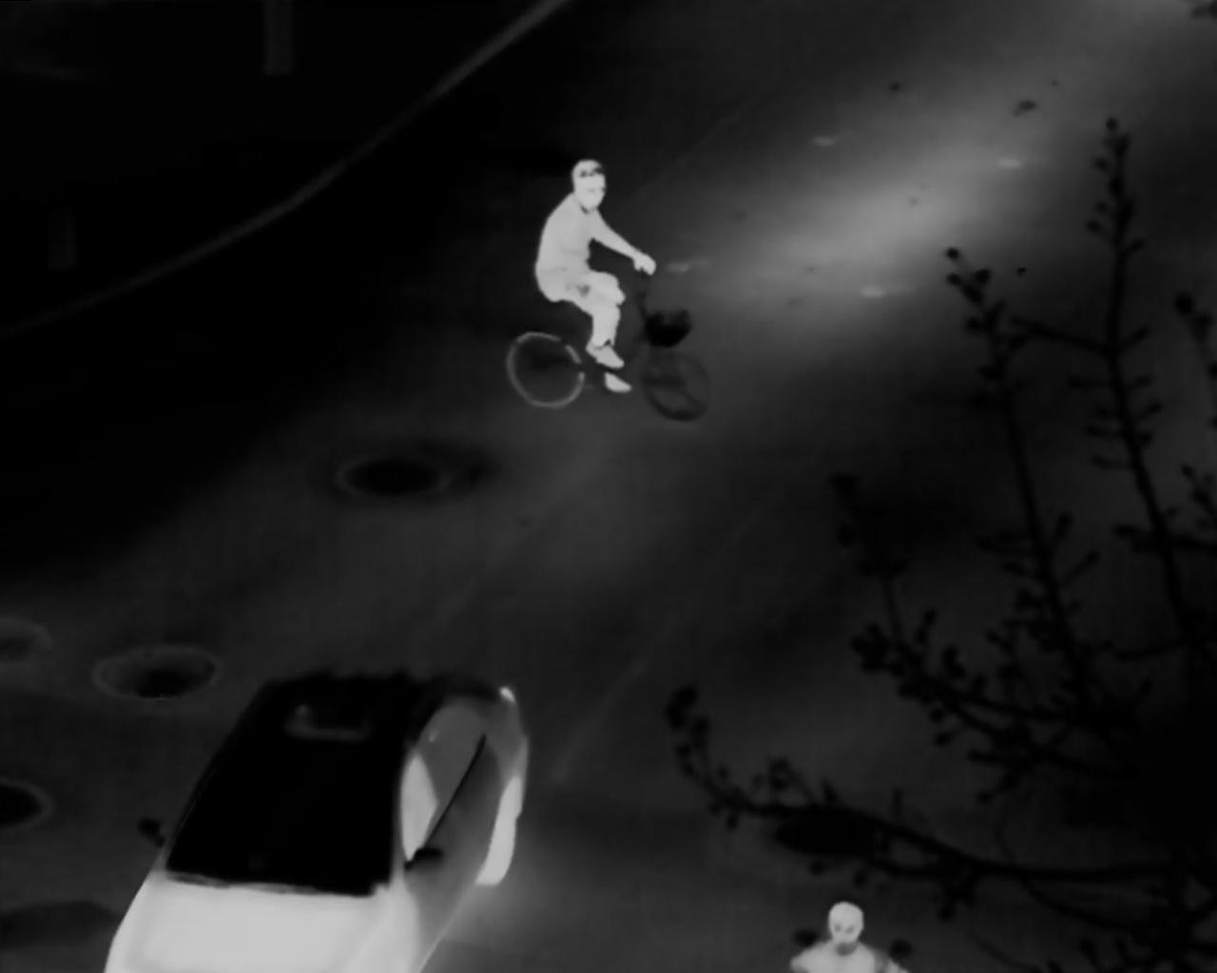person: (534, 160, 662, 392), (795, 894, 901, 973)
